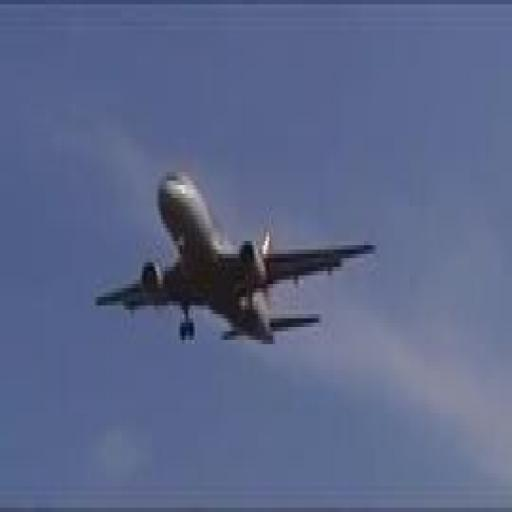aircraft: (93, 164, 377, 344)
